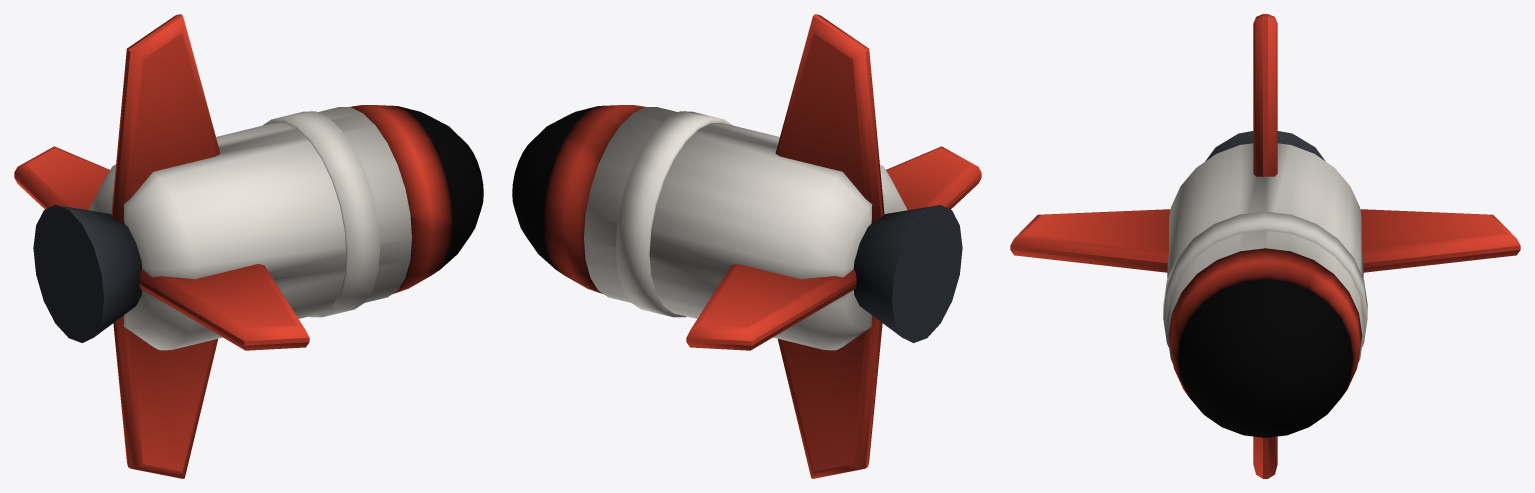
File: proj_player_missile.glb
3 renders of one model, left to right at view 1: azimuth 30°, elevation 25°; view 2: azimuth 150°, elevation 25°; view 3: azimuth 270°, elevation 25°, orthographic.
Visible parts, largest first — view 1: player_missile_mesh; view 2: player_missile_mesh; view 3: player_missile_mesh.
Part boxes in pixels (left/top/right/bottom): player_missile_mesh: left=14, top=14, right=483, bottom=478; player_missile_mesh: left=512, top=14, right=981, bottom=478; player_missile_mesh: left=1010, top=14, right=1520, bottom=478.
Bounding box in the file's own units: 0.8095 × 0.884 × 0.884.
